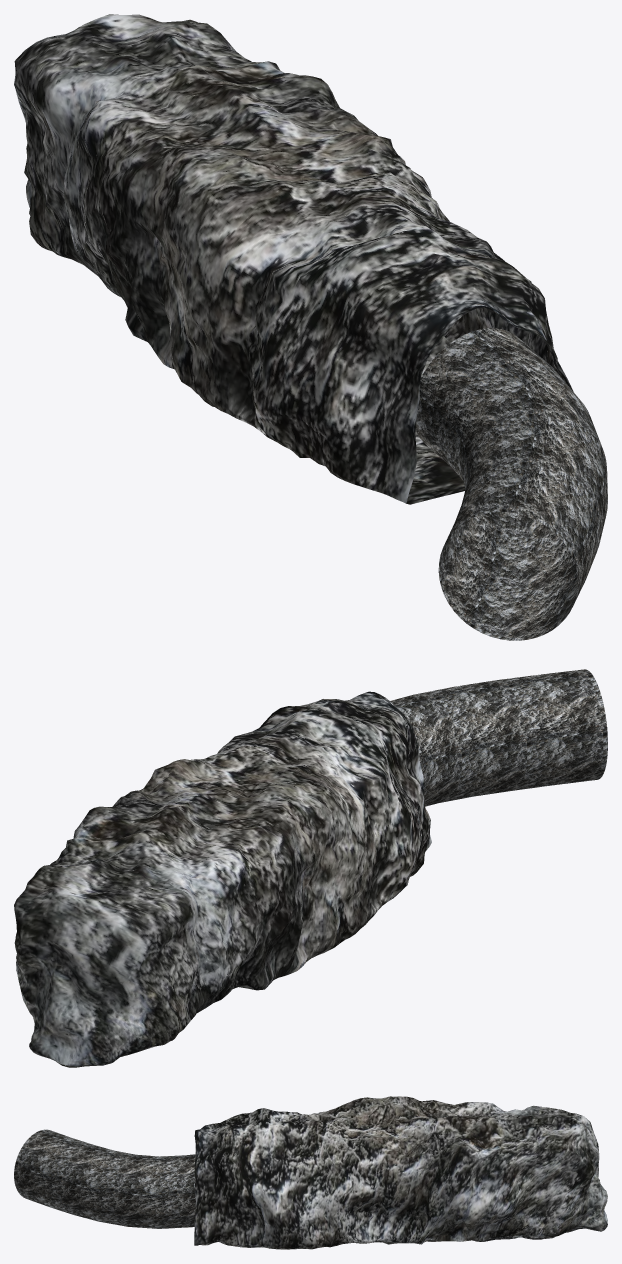
File: Cave.gltf
The picture shows the model from 3 angles, top to bottom: view 1: azimuth 30°, elevation 25°; view 2: azimuth 150°, elevation 25°; view 3: azimuth 270°, elevation 25°; orthographic projection. The views are drawn at different scales.
Visible parts, largest first — view 1: Object_2, Cylinder.001; view 2: Object_2, Cylinder.001; view 3: Object_2, Cylinder.001.
Boxes of the visible parts, x1,y1,x2,y2 form: Object_2: (14, 14, 573, 504); Cylinder.001: (415, 328, 607, 640); Object_2: (14, 691, 431, 1067); Cylinder.001: (390, 669, 607, 806); Object_2: (194, 1096, 607, 1249); Cylinder.001: (14, 1129, 195, 1228).
Bounding box in the file's own units: 88.45 × 60.01 × 286.
2 materials, 2 textured.
